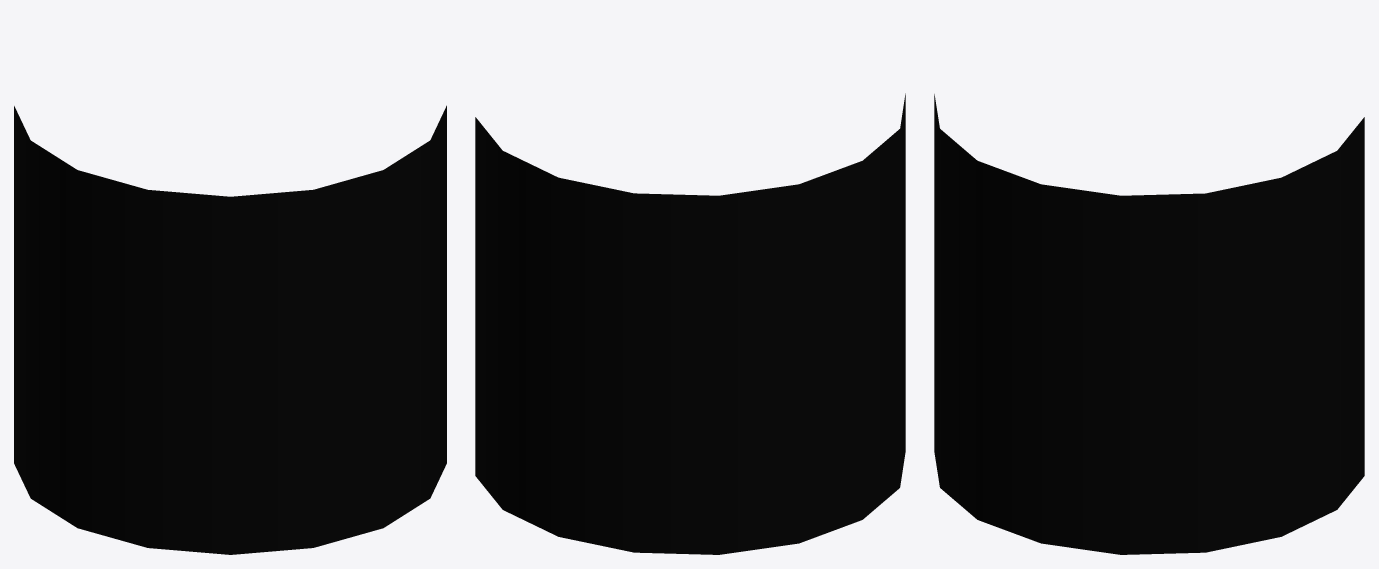
3 views of the same model, side by side, from view 1: azimuth 30°, elevation 25°; view 2: azimuth 150°, elevation 25°; view 3: azimuth 270°, elevation 25° (orthographic).
Parts seen in each view (by area): view 1: Joint_0_Object_0; view 2: Joint_0_Object_0; view 3: Joint_0_Object_0.
Part boxes in pixels (<box>): Joint_0_Object_0: <box>14,105,446,554</box>; Joint_0_Object_0: <box>475,93,905,554</box>; Joint_0_Object_0: <box>934,94,1364,554</box>.
Size of the model in its own units: 445 by 410 by 445.
1 material, 1 textured.
